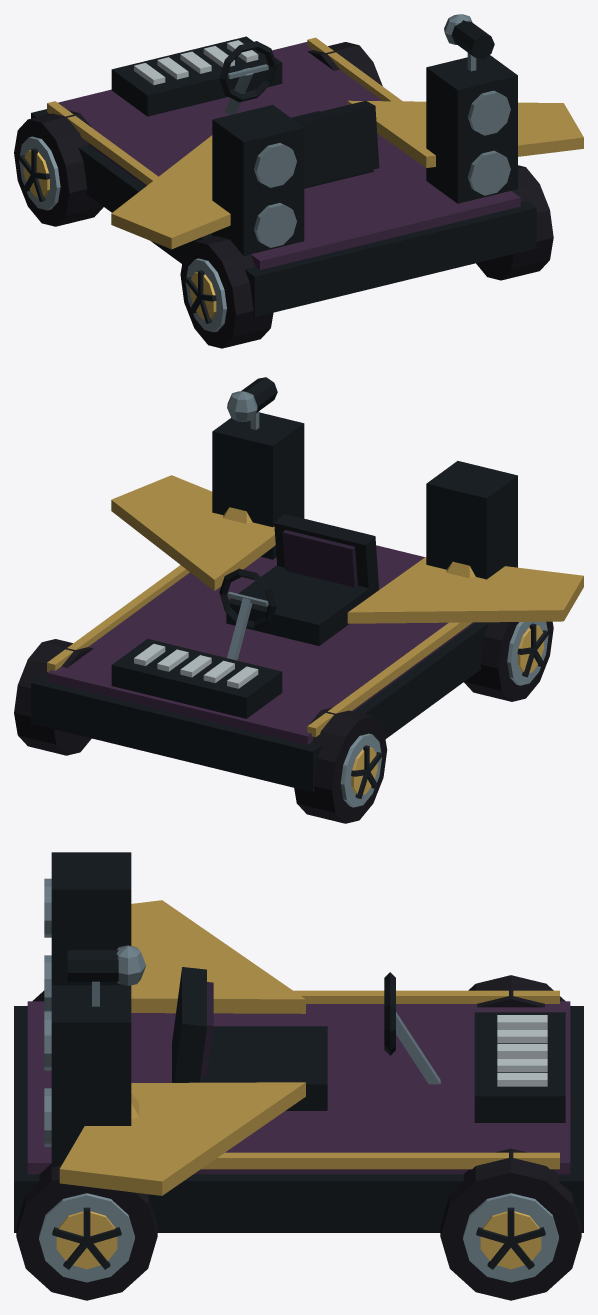
File: kart.glb
The picture shows the model from 3 angles, top to bottom: view 1: azimuth 30°, elevation 25°; view 2: azimuth 150°, elevation 25°; view 3: azimuth 270°, elevation 25°; orthographic projection. The views are drawn at different scales.
Parts seen in each view (by area): view 1: identity-stage-stage-platform-and-pa-towers, identity-stage-motif-wings, identity-stage-driver-cockpit, wheel-rear-left, wheel-front-left, wheel-rear-right, identity-stage-motif-microphone, wheel-front-right; view 2: identity-stage-stage-platform-and-pa-towers, identity-stage-motif-wings, identity-stage-driver-cockpit, wheel-front-left, wheel-rear-left, wheel-front-right, identity-stage-motif-microphone, identity-stage-motif-gems; view 3: identity-stage-stage-platform-and-pa-towers, identity-stage-motif-wings, wheel-front-right, wheel-rear-right, identity-stage-driver-cockpit, identity-stage-motif-microphone, wheel-front-left.
Boxes of the visible parts, <box> form: identity-stage-stage-platform-and-pa-towers: <box>31,36,536,316</box>; identity-stage-motif-wings: <box>111,100,583,249</box>; identity-stage-driver-cockpit: <box>219,41,379,188</box>; wheel-rear-left: <box>180,236,273,348</box>; wheel-front-left: <box>14,110,103,226</box>; wheel-rear-right: <box>476,165,553,280</box>; identity-stage-motif-microphone: <box>444,14,494,71</box>; wheel-front-right: <box>307,42,382,86</box>; identity-stage-stage-platform-and-pa-towers: <box>31,412,517,792</box>; identity-stage-motif-wings: <box>111,475,583,623</box>; identity-stage-driver-cockpit: <box>219,514,379,660</box>; wheel-front-left: <box>294,707,387,823</box>; wheel-rear-left: <box>464,621,553,701</box>; wheel-front-right: <box>14,639,93,755</box>; identity-stage-motif-microphone: <box>227,377,277,429</box>; identity-stage-motif-gems: <box>223,507,475,578</box>; identity-stage-stage-platform-and-pa-towers: <box>14,852,583,1232</box>; identity-stage-motif-wings: <box>59,900,305,1195</box>; wheel-front-right: <box>440,1148,581,1300</box>; wheel-rear-right: <box>16,1163,157,1300</box>; identity-stage-driver-cockpit: <box>172,967,440,1110</box>; identity-stage-motif-microphone: <box>67,945,145,1006</box>; wheel-front-left: <box>468,975,565,1007</box>.
Size of the model in its own units: 2.92 by 1.57 by 2.5.
